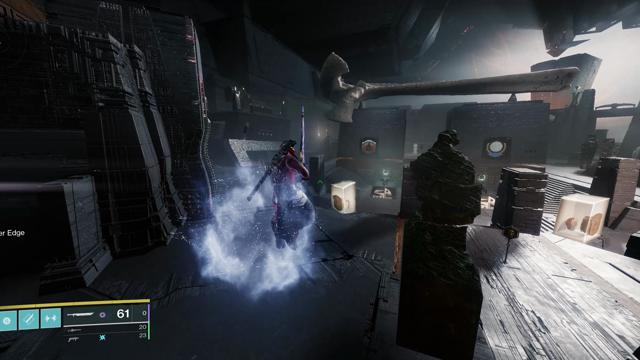commune: (549, 114, 555, 122)
pyramid: (362, 140, 376, 154)
traveler: (486, 140, 506, 157)
